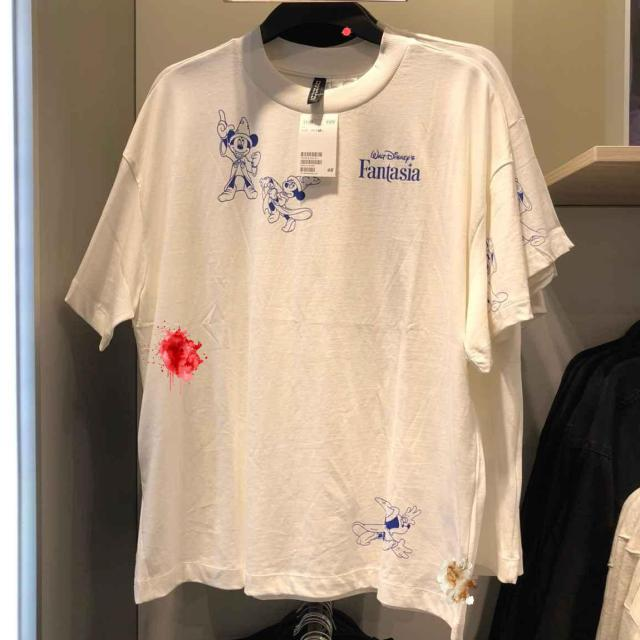stain: (149, 319, 216, 399), (436, 558, 476, 615), (341, 27, 355, 42)
